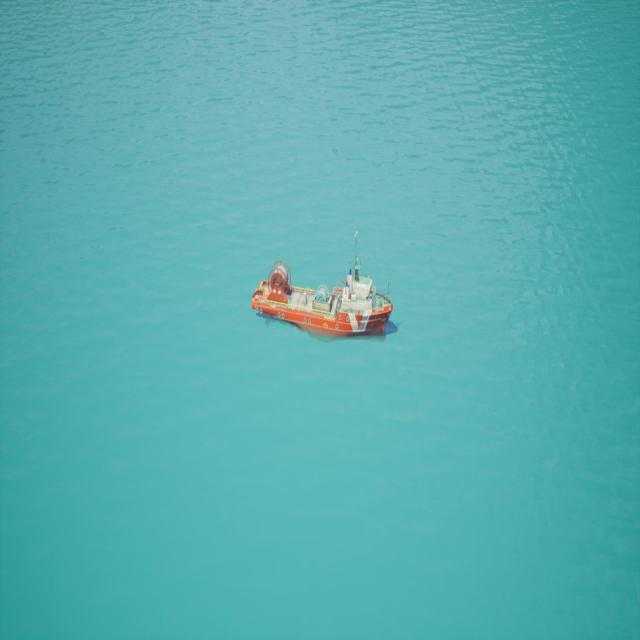tug boat: (245, 201, 418, 416)
